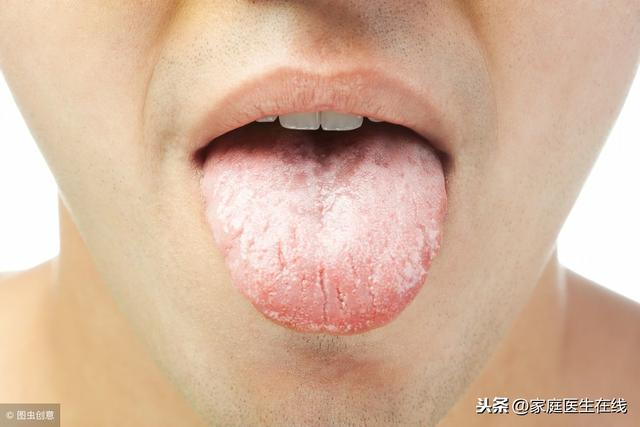baitaishe: (202, 129, 449, 334)
liewenshe: (316, 268, 344, 326)
